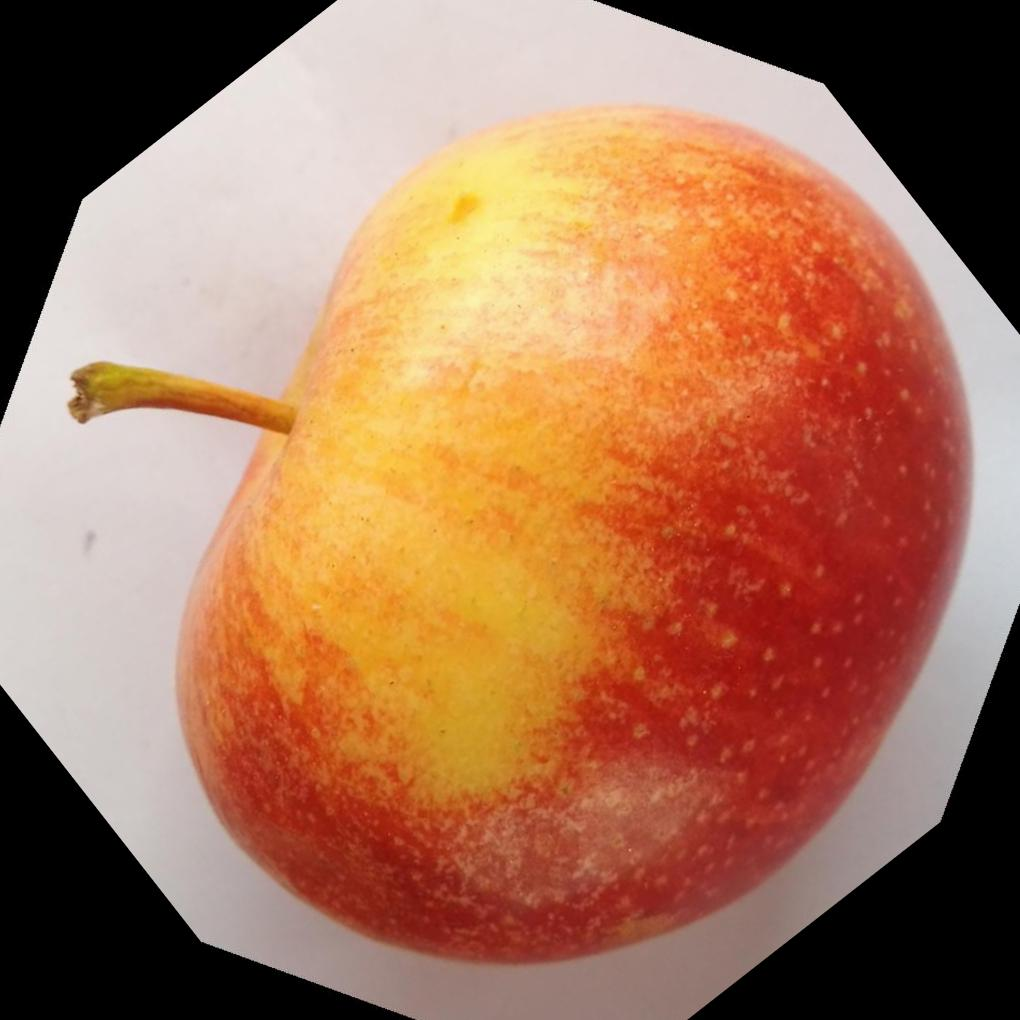FreshGuava: (65, 96, 975, 966)
